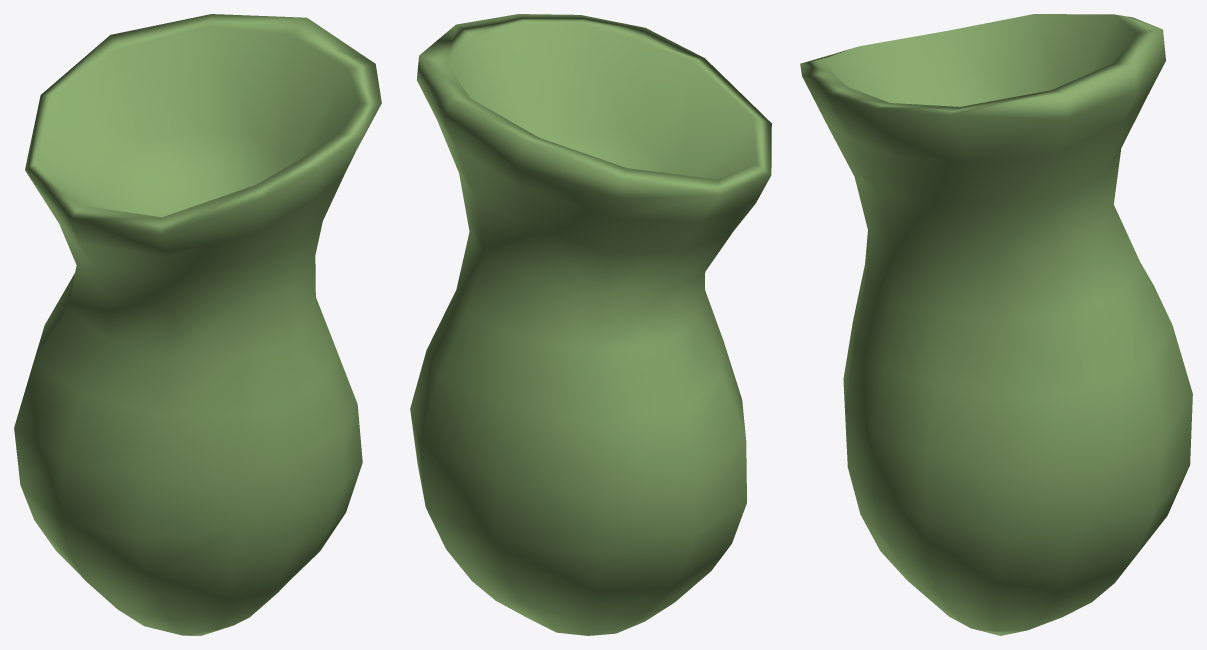
Rendered from geo_NPC03.fbx.
The picture shows the model from 3 angles, left to right: view 1: azimuth 30°, elevation 25°; view 2: azimuth 150°, elevation 25°; view 3: azimuth 270°, elevation 25°; orthographic projection. The views are drawn at different scales.
Visible parts, largest first — view 1: geo_NpcCap_03_L; view 2: geo_NpcCap_03_L; view 3: geo_NpcCap_03_L.
Boxes of the visible parts, x1=… form: geo_NpcCap_03_L: x1=14, y1=14, x2=381, y2=635; geo_NpcCap_03_L: x1=410, y1=14, x2=771, y2=635; geo_NpcCap_03_L: x1=800, y1=14, x2=1192, y2=635.
Size of the model in its own units: 92.91 by 162 by 93.91.
